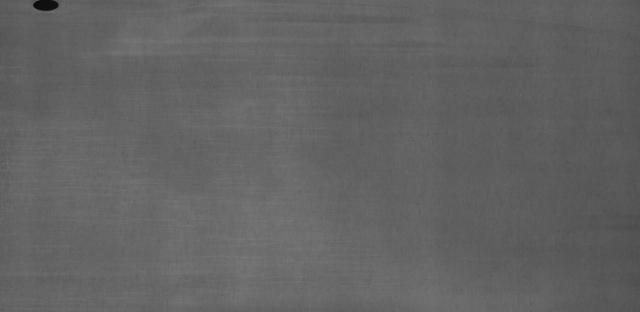punching_hole: (26, 0, 66, 14)
